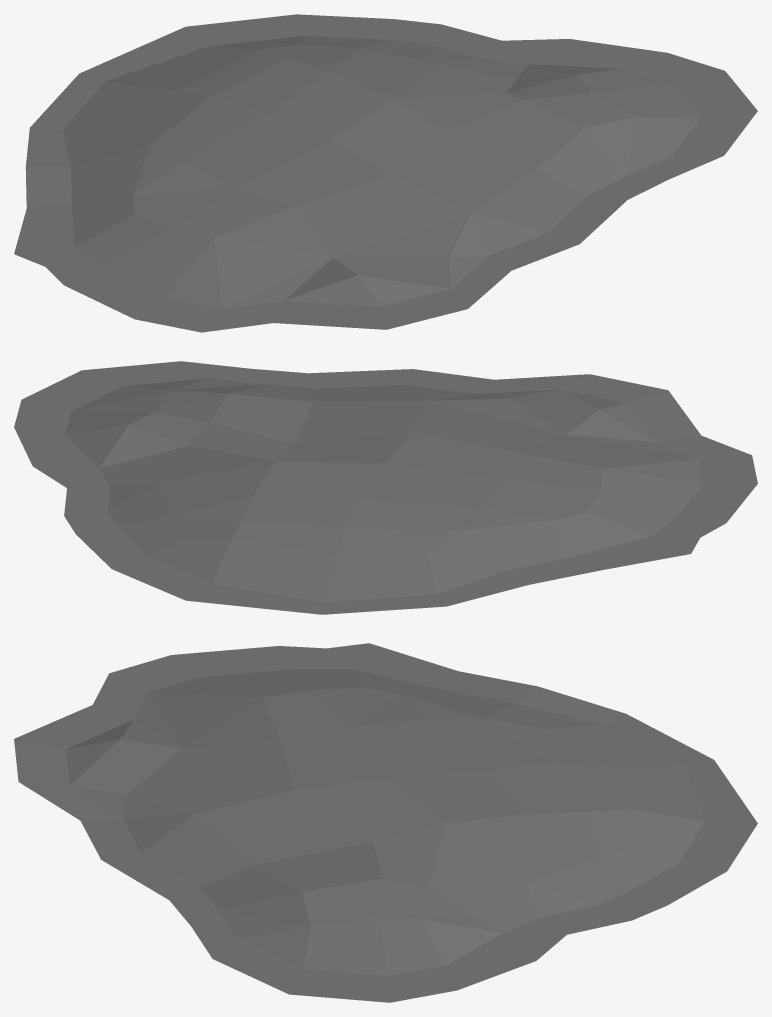
The model's file is haodao_01.FBX.
3 renders of one model, top to bottom at view 1: azimuth 30°, elevation 25°; view 2: azimuth 150°, elevation 25°; view 3: azimuth 270°, elevation 25°, orthographic. The views are drawn at different scales.
Parts seen in each view (by area): view 1: lvhua_01; view 2: lvhua_01; view 3: lvhua_01.
Part boxes in pixels (left/top/right/bottom): lvhua_01: left=14, top=14, right=757, bottom=332; lvhua_01: left=14, top=361, right=757, bottom=614; lvhua_01: left=14, top=643, right=757, bottom=1002.
Bounding box in the file's own units: 1311 × 47.14 × 1146.
